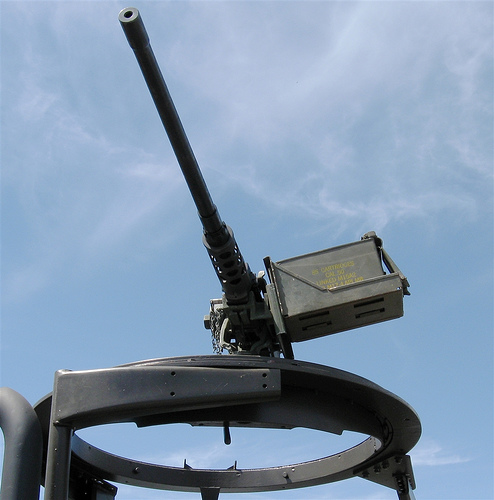rifle: (103, 9, 434, 350)
